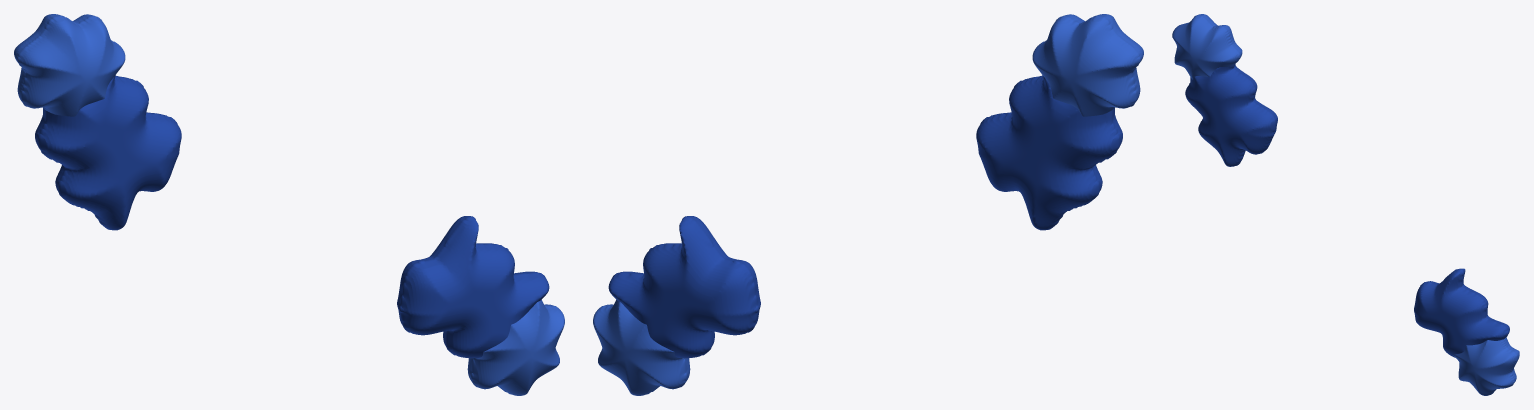
File: fuzzy.glb
The picture shows the model from 3 angles, left to right: view 1: azimuth 30°, elevation 25°; view 2: azimuth 150°, elevation 25°; view 3: azimuth 330°, elevation 25°; orthographic projection. The views are drawn at different scales.
Visible parts, largest first — view 1: fuzzy_-100_solid, fuzzy_-101_solid, fuzzy_-102_solid, fuzzy_-103_solid; view 2: fuzzy_-100_solid, fuzzy_-101_solid, fuzzy_-102_solid, fuzzy_-103_solid; view 3: fuzzy_-100_solid, fuzzy_-101_solid, fuzzy_-102_solid, fuzzy_-103_solid.
Part boxes in pixels (box(x1,y1,x2,y2)): fuzzy_-100_solid: box(35, 75, 181, 230); fuzzy_-101_solid: box(397, 216, 549, 358); fuzzy_-102_solid: box(14, 14, 125, 116); fuzzy_-103_solid: box(467, 299, 564, 395); fuzzy_-100_solid: box(976, 75, 1122, 230); fuzzy_-101_solid: box(608, 216, 760, 358); fuzzy_-102_solid: box(1032, 14, 1143, 116); fuzzy_-103_solid: box(593, 299, 690, 395); fuzzy_-100_solid: box(1185, 64, 1277, 166); fuzzy_-101_solid: box(1414, 268, 1509, 357); fuzzy_-102_solid: box(1172, 14, 1242, 79); fuzzy_-103_solid: box(1453, 337, 1519, 395).
Bounding box in the file's own units: 0.8253 × 0.7105 × 0.1026.
